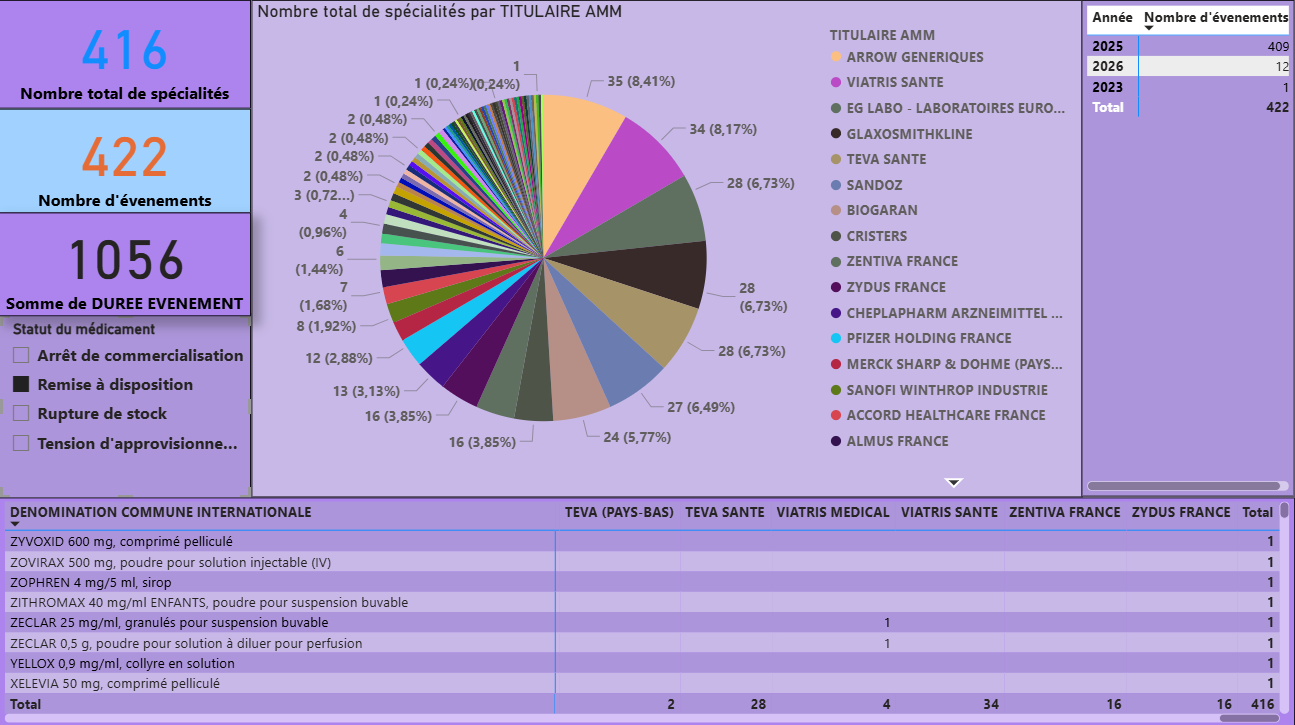

What the dashboard file says about the page in this screenshot:
{"tool":"powerbi","page":{"name":"Les années les plus troubles","canvas":[1280,720],"ordinal":3},"visuals":[{"type":"slicer","fields":{"Values":["FACT_Dispo_Spec.Statut du médicament"]},"box":[0,311.6,249,181],"z":0},{"type":"pieChart","fields":{"Category":["DIM INFOS MEDICAMENTS.TITULAIRE AMM"],"Y":["DIM INFOS MEDICAMENTS.Nombre total de spécialités"]},"box":[249,0,820.4,491.2],"z":1000},{"type":"card","fields":{"Values":["DIM INFOS MEDICAMENTS.Nombre total de spécialités"]},"box":[0,0,249,107],"z":2000},{"type":"card","fields":{"Values":["FACT_Dispo_Spec.nombre d'évenements"]},"box":[0,107,249,103],"z":3000},{"type":"card","fields":{"Values":["Sum(FACT_Dispo_Spec.DUREE EVENEMENT)"]},"box":[0,209.5,249,102],"z":4000},{"type":"pivotTable","fields":{"Rows":["DIM INFOS MEDICAMENTS.DCI"],"Columns":["DIM INFOS MEDICAMENTS.TITULAIRE AMM"],"Values":["DIM INFOS MEDICAMENTS.Nombre total de spécialités"]},"box":[0,491.4,1280.2,228.4],"z":5000},{"type":"pivotTable","fields":{"Values":["FACT_Dispo_Spec.Nombre d'évenements"],"Rows":["DIM_Date.Année"]},"box":[1069.1,0,211.1,201.2],"z":6000},{"type":"card","fields":{"Values":["DIM_Date.Max durée"]},"box":[1069.1,201.2,211.1,121],"z":6001},{"type":"card","fields":{"Values":["DIM_Date.Min durée"]},"box":[1069.1,338.3,211.1,153.1],"z":6002}]}

Visuals, with their boxes in screenshot pixels (x1, y1, x2, y2), scaled from the page's 1280x720 canvas onto the 1295x725 screenshot:
slicer - FACT_Dispo_Spec.Statut du médicament: 0,314,252,496
pieChart - DIM INFOS MEDICAMENTS.TITULAIRE AMM x DIM INFOS MEDICAMENTS.Nombre total de spécialités: 252,0,1082,495
card - DIM INFOS MEDICAMENTS.Nombre total de spécialités: 0,0,252,108
card - FACT_Dispo_Spec.nombre d'évenements: 0,108,252,211
card - Sum(FACT_Dispo_Spec.DUREE EVENEMENT): 0,211,252,314
pivotTable - DIM INFOS MEDICAMENTS.DCI x DIM INFOS MEDICAMENTS.TITULAIRE AMM: 0,495,1294,724
pivotTable - FACT_Dispo_Spec.Nombre d'évenements x DIM_Date.Année: 1082,0,1294,203
card - DIM_Date.Max durée: 1082,203,1294,324
card - DIM_Date.Min durée: 1082,341,1294,495
